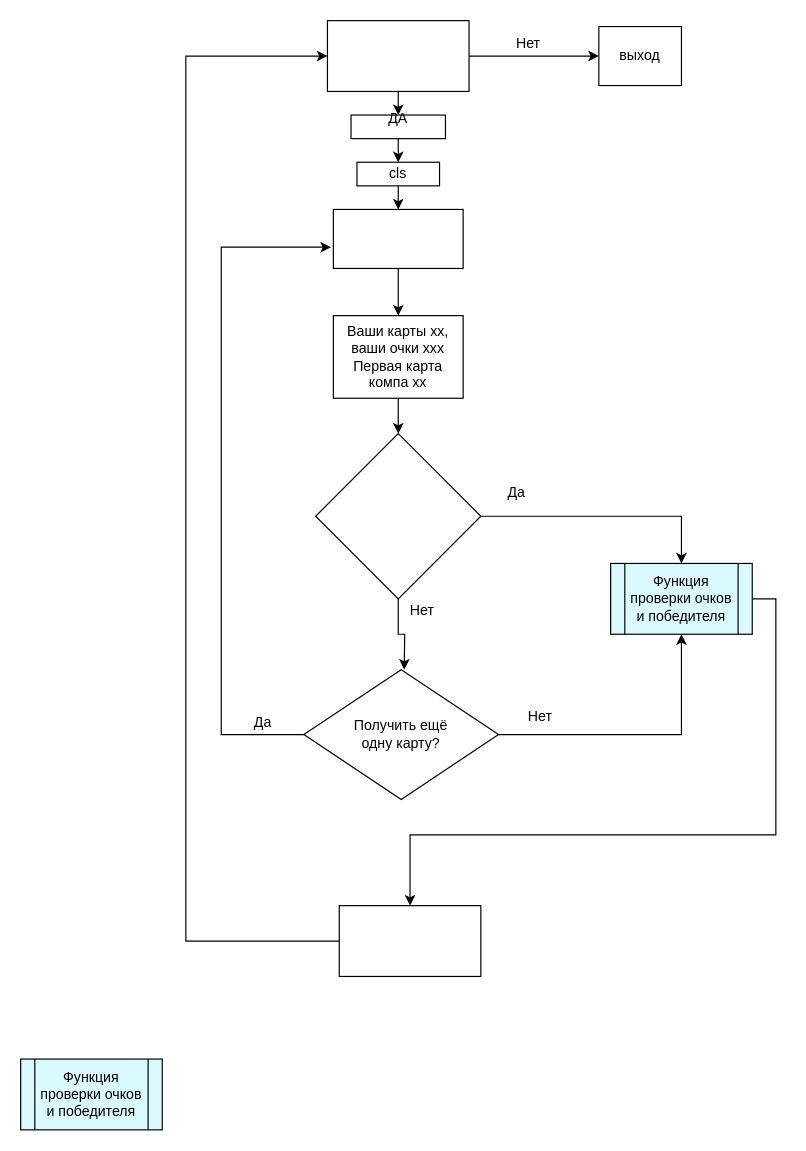
Some shapes in this 806 by 1151 pixel diagram are drawn without their labels. The centre of each missing label's shape, as x and y in pixels:
В зависимости от победителя выводит сообщение: the point at 409,940
Генерируем колоду игрок и пк: the point at 397,238
Начать игру?: the point at 397,55
Проверить не превышает ли сумма карт игрока и пк 21: the point at 397,515
